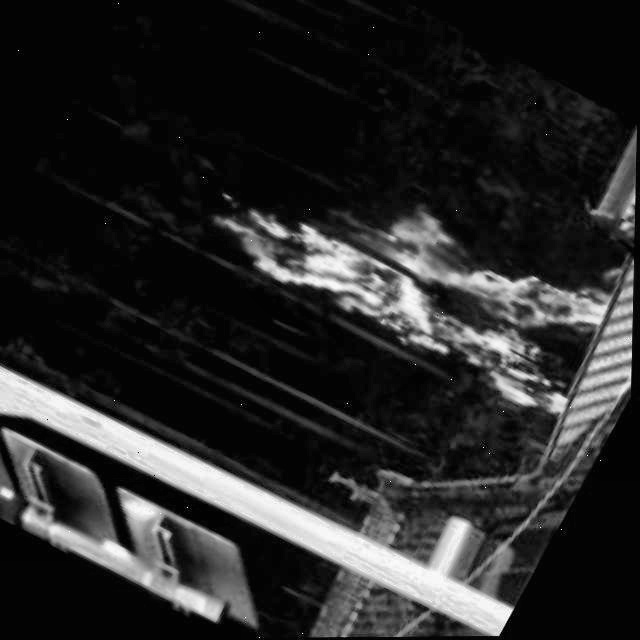Fire: (204, 135, 621, 443)
